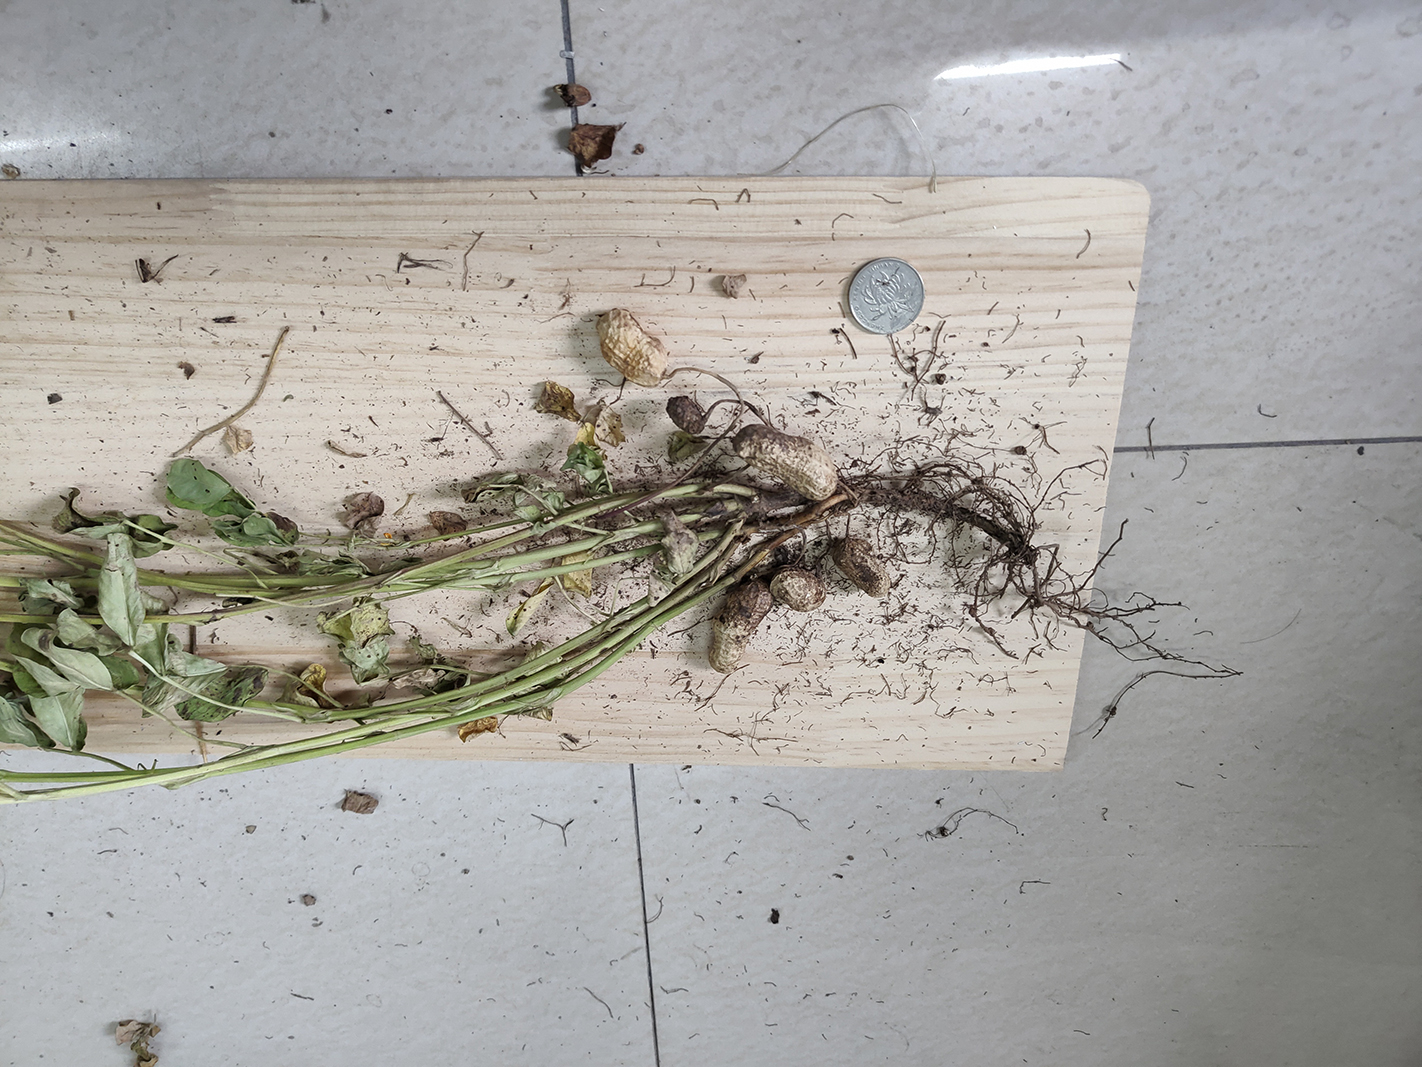h: (733, 423, 837, 501), (707, 581, 773, 674), (598, 307, 670, 387), (771, 569, 824, 611)
l: (833, 538, 891, 599), (666, 393, 706, 433)
